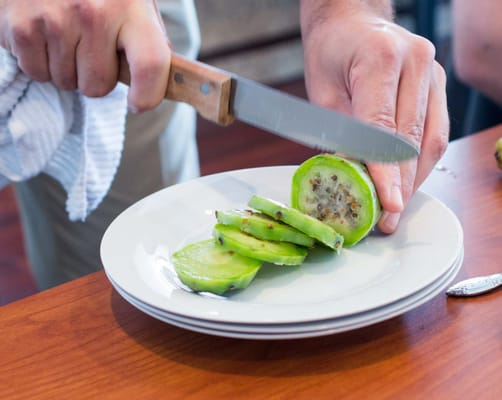sandwich: (122, 45, 418, 162)
